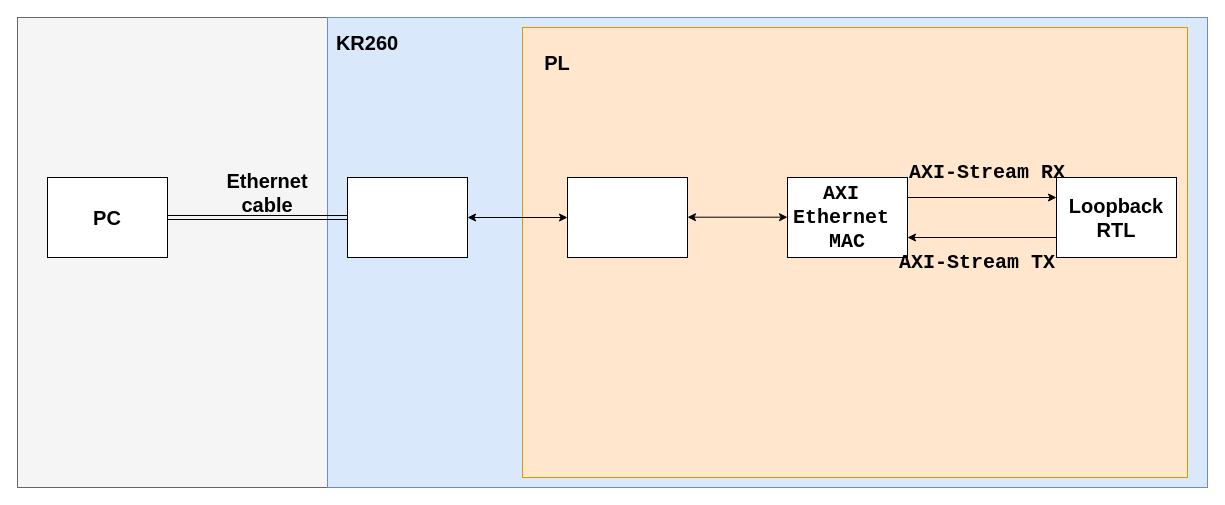
The diagram is 1225 pixels wide and 505 high, and some of its shapes have lost their labels. The shapes that lost their labels are listed below. From the top down, each one's box as (x1, y1, x2, y2) in pixels, then its label:
(346, 176, 468, 258): J10B PHY
(566, 176, 688, 258): RGMII
